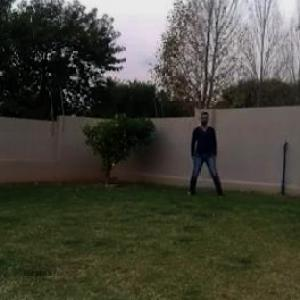follow: (194, 110, 215, 193)
